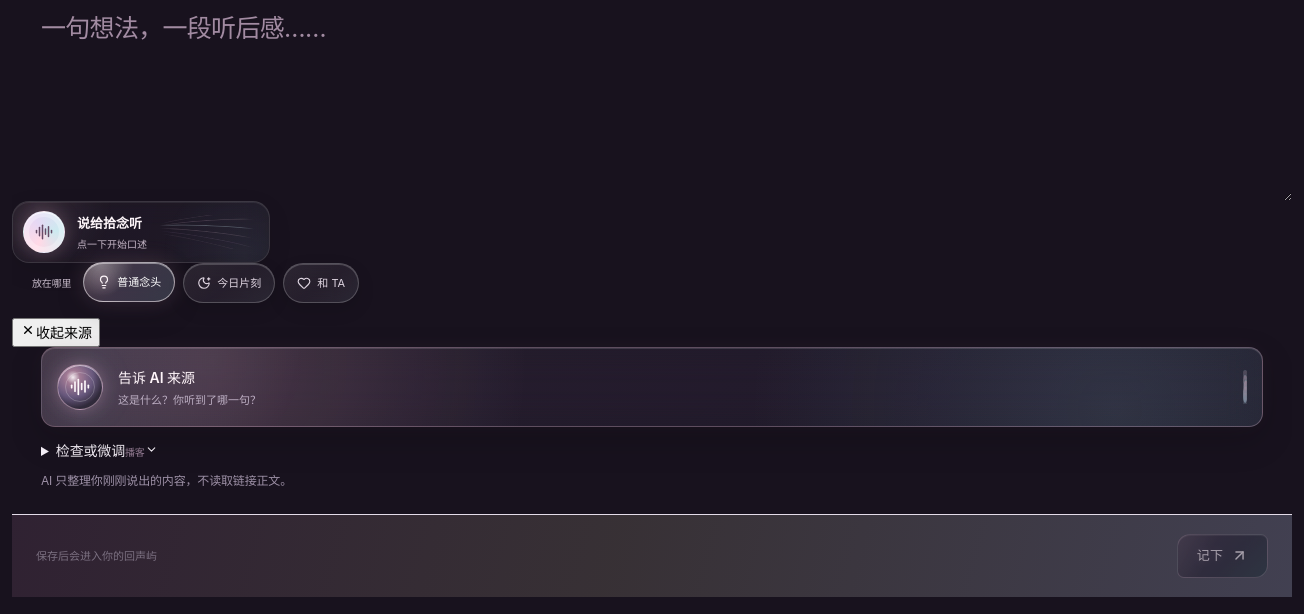
Test: 来源语音入口 › 主记录口述结束后自动保存并在后台整理
Click the button with aria-label "开始口述记录" at (141, 232), box [12,201,270,263]
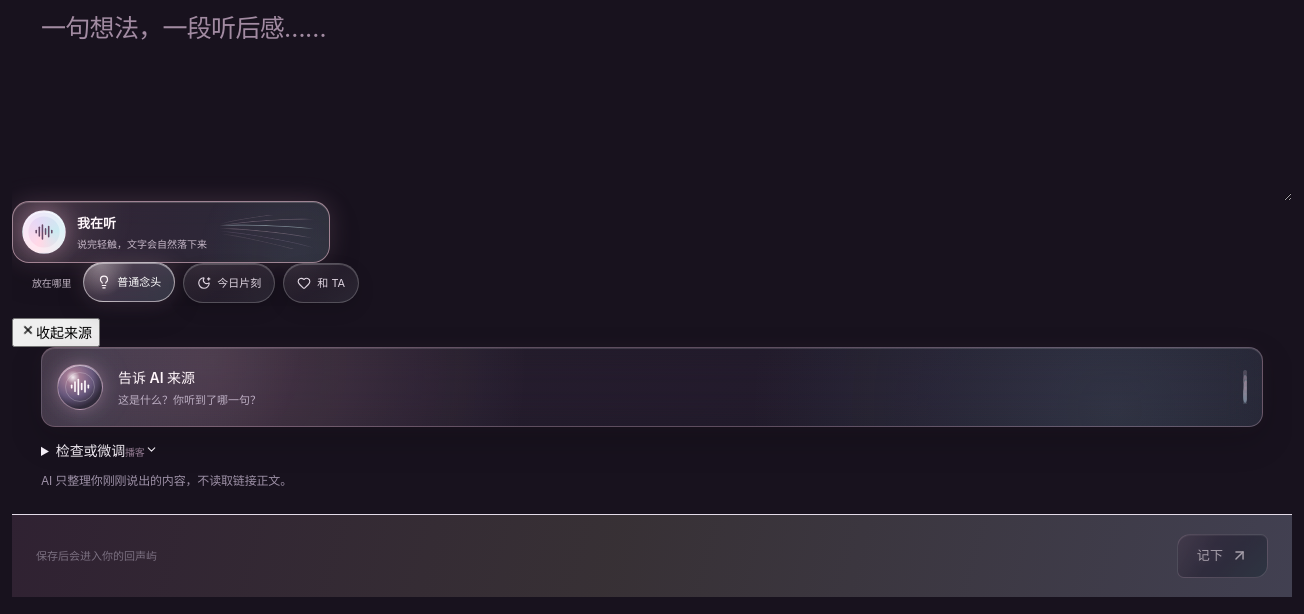
Result: the button with aria-label "停止口述记录" is shown
Click the button with aria-label "停止口述记录" at (44, 232), box [12,201,330,263]
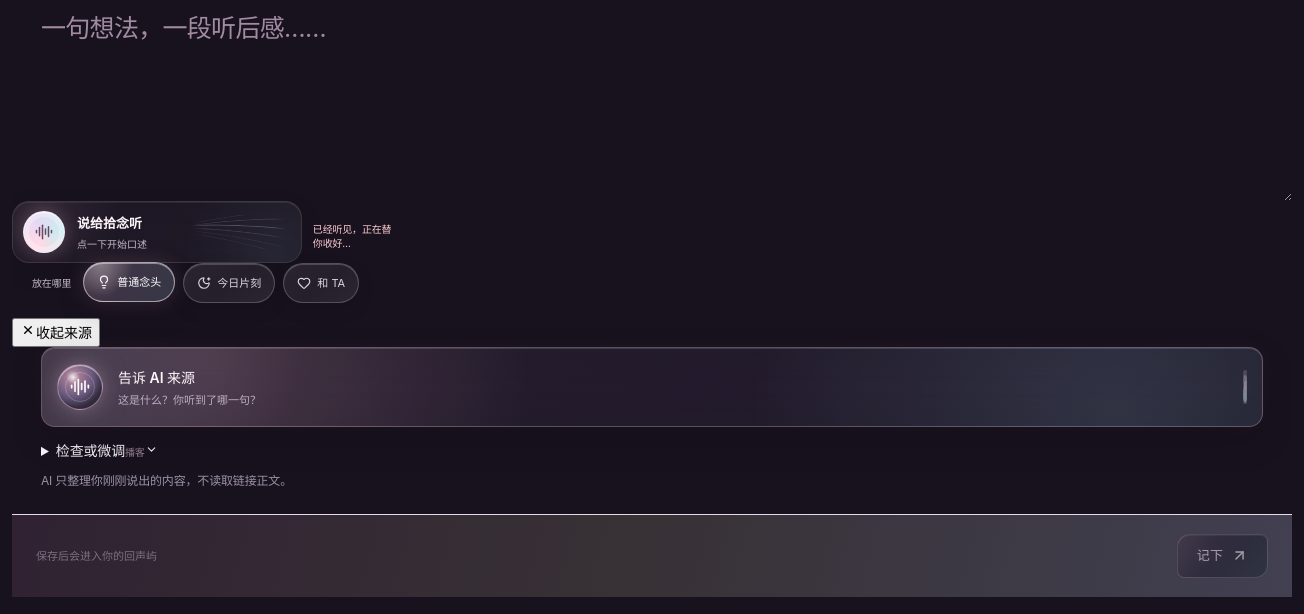
Result: the text "已经听见，正在替你收好…" is shown at [313,222,398,250]
